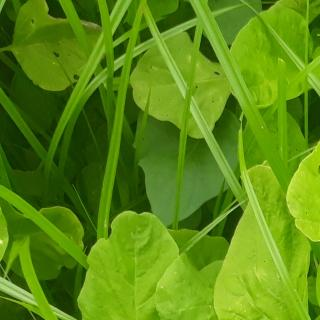virus_keriting: (250, 177, 288, 223), (315, 0, 320, 54)
